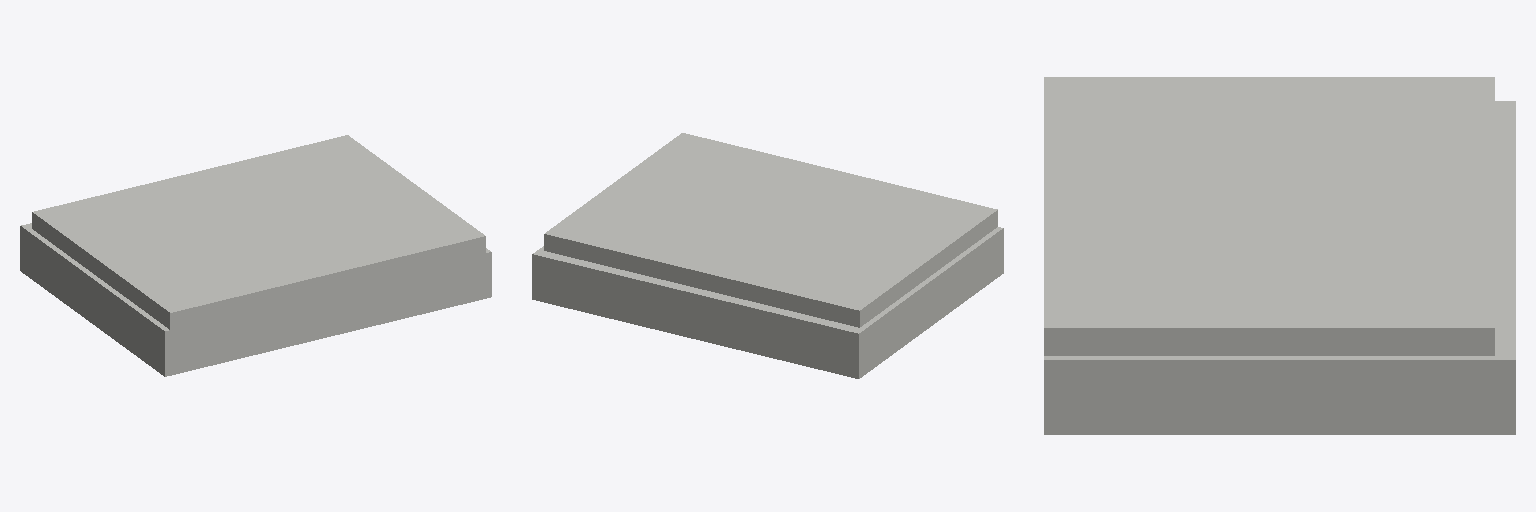
robot.urdf — laptop:
<?xml version="1.0"?>
<robot name="laptop">
  <link name="base">
    <inertial>
      <origin xyz="0 0 0" rpy="0 0 0"/>
      <mass value="2.0"/>
      <inertia ixx="0.00908" ixy="0" ixz="0" iyy="0.01527" iyz="0" izz="0.02382"/>
    </inertial>
    <visual>
      <origin xyz="0 0 0" rpy="0 0 0"/>
      <geometry>
        <box size="0.30 0.23 0.04"/>
      </geometry>
      <material name="light_grey">
        <color rgba="0.8 0.8 0.78 1"/>
      </material>
    </visual>
    <collision>
      <origin xyz="0 0 0" rpy="0 0 0"/>
      <geometry>
        <box size="0.30 0.23 0.04"/>
      </geometry>
    </collision>
  </link>

  <link name="display">
    <inertial>
      <origin xyz="0 0.11 0.0075" rpy="0 0 0"/>
      <mass value="0.6"/>
      <inertia ixx="0.00243" ixy="0" ixz="0" iyy="0.00422" iyz="0" izz="0.00663"/>
    </inertial>
    <visual>
      <origin xyz="0 0.11 0.0075" rpy="0 0 0"/>
      <geometry>
        <box size="0.29 0.22 0.015"/>
      </geometry>
      <material name="light_grey">
        <color rgba="0.8 0.8 0.78 1"/>
      </material>
    </visual>
    <collision>
      <origin xyz="0 0.11 0.0075" rpy="0 0 0"/>
      <geometry>
        <box size="0.29 0.22 0.015"/>
      </geometry>
    </collision>
  </link>

  <joint name="lid_hinge" type="revolute">
    <parent link="base"/>
    <child link="display"/>
    <origin xyz="0 -0.115 0.02" rpy="0 0 0"/>
    <axis xyz="1 0 0"/>
    <limit lower="0" upper="1.85" effort="5.0" velocity="1.5"/>
    <dynamics damping="0.1" friction="0.1"/>
  </joint>
</robot>

--- Facts derived from the render (not from the file) ---
Views: 3 orthographic renders of the robot side by side, from view 1: azimuth 30°, elevation 25°; view 2: azimuth 150°, elevation 25°; view 3: azimuth 270°, elevation 25°.
Robot: laptop — 2 links, 1 joints (1 revolute); root link base; default pose: all joints at 0.
Links seen in each view (by area): view 1: display, base; view 2: display, base; view 3: display, base.
Boxes of the visible links, x1,y1,x2,y2 form: display: (32,135,485,329); base: (20,223,491,376); display: (544,133,997,327); base: (532,227,1003,378); display: (1044,77,1494,355); base: (1044,101,1515,434).
Size in the robot's own frame: 0.3 by 0.23 by 0.055 metres.
Geometry: primitives only (box / cylinder / sphere), no mesh files.
